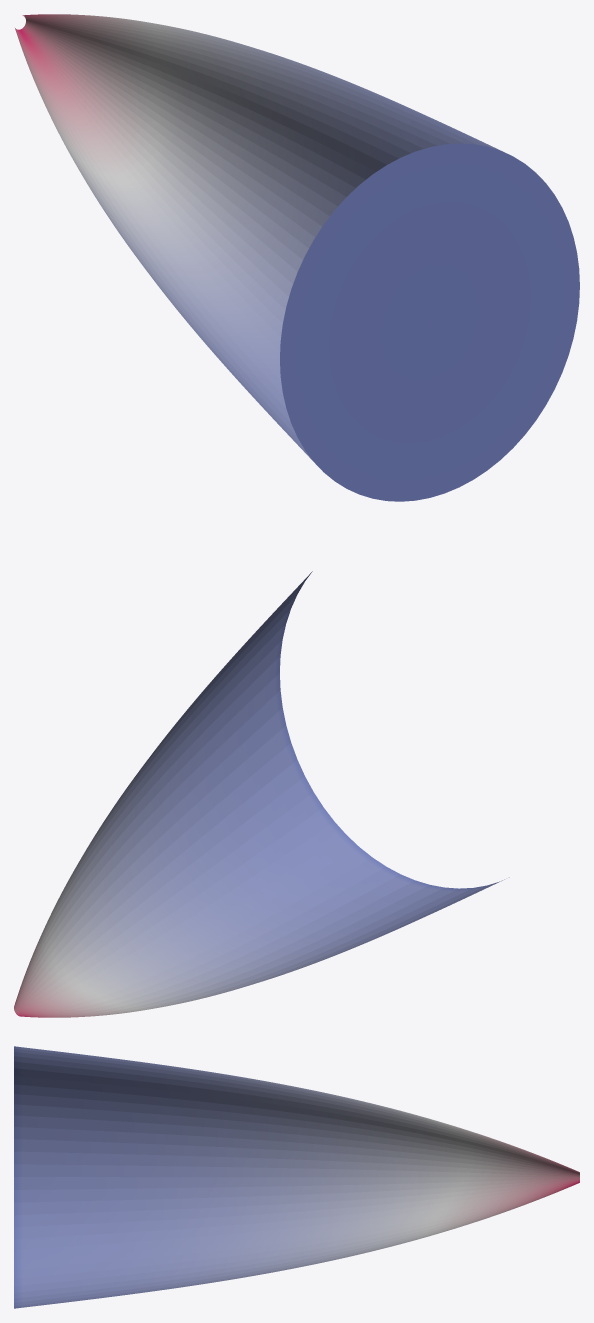
Rendered from frame_010.glb.
3 renders of one model, top to bottom at view 1: azimuth 30°, elevation 25°; view 2: azimuth 150°, elevation 25°; view 3: azimuth 270°, elevation 25°, orthographic. The views are drawn at different scales.
Visible parts, largest first — view 1: world; view 2: world; view 3: world.
Boxes of the visible parts, <box> form: world: <box>15,14,579,501</box>; world: <box>14,571,509,1017</box>; world: <box>14,1046,579,1308</box>.
Size of the model in its own units: 0.4227 by 0.4721 by 1.
